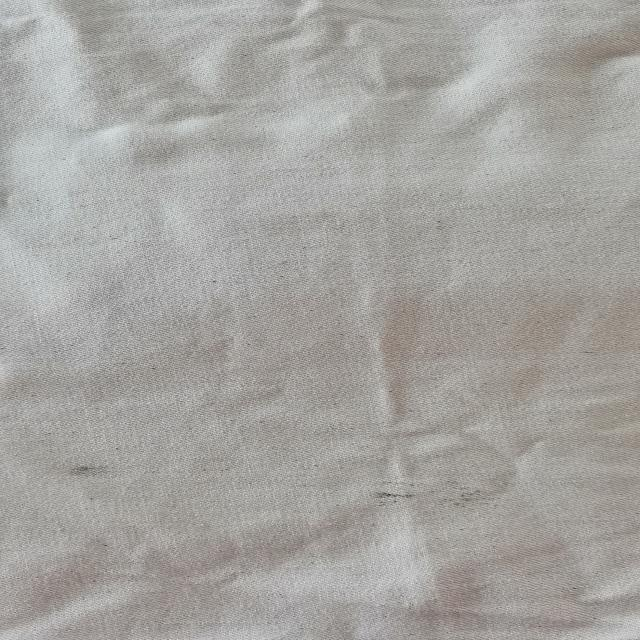taaaches: (372, 470, 512, 520), (58, 453, 147, 496)
